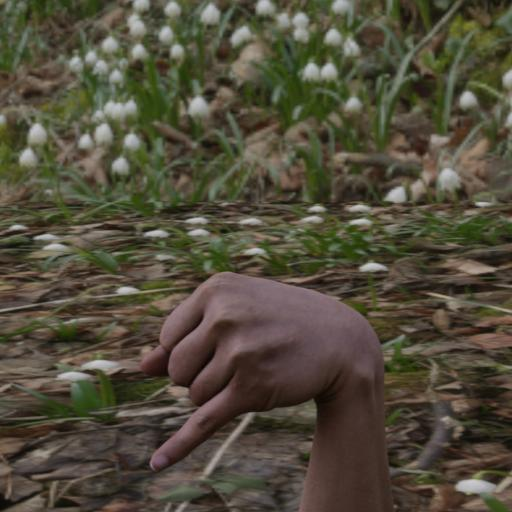J: (130, 259, 395, 512)
